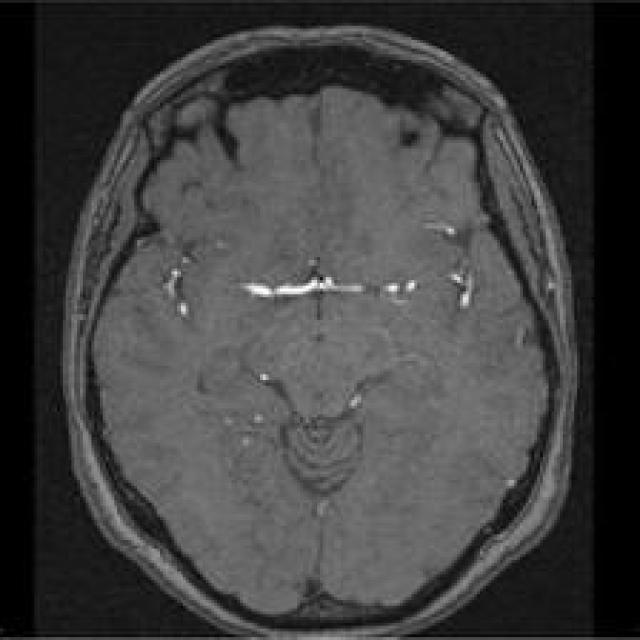no_tumor: (45, 14, 582, 640)
